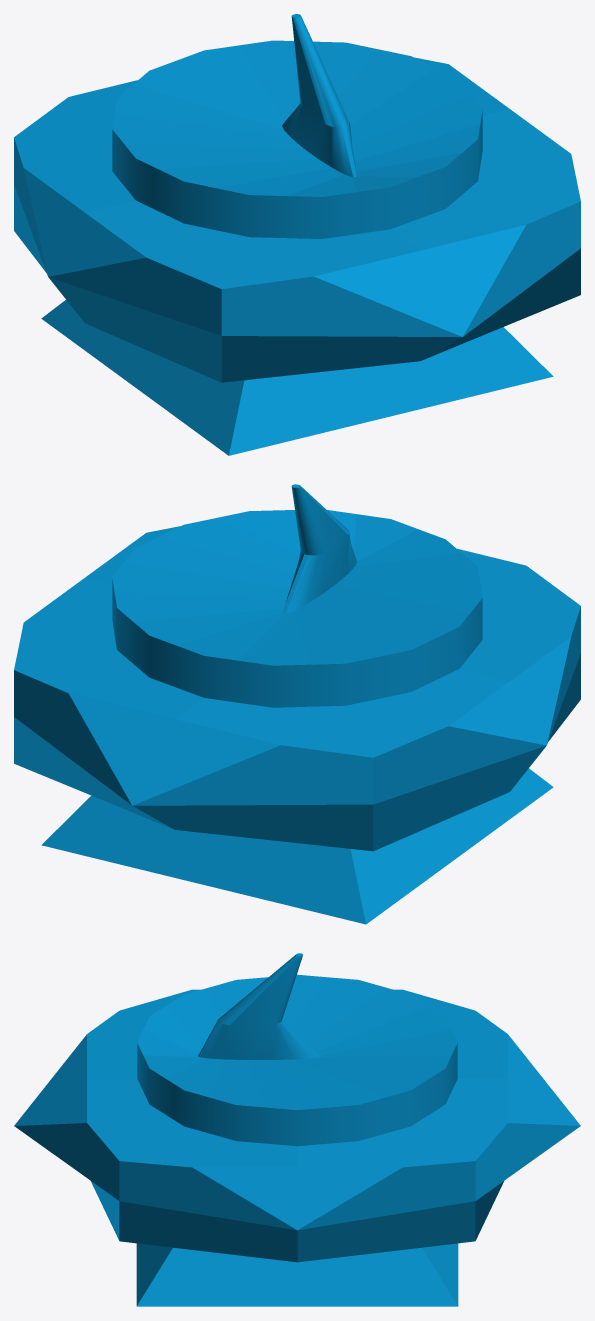
The model's file is Sun Dial Perfect.fbx.
3 views of the same model, one above another, from view 1: azimuth 30°, elevation 25°; view 2: azimuth 150°, elevation 25°; view 3: azimuth 270°, elevation 25° (orthographic). The views are drawn at different scales.
Parts seen in each view (by area): view 1: pCube2; view 2: pCube2; view 3: pCube2.
Boxes of the visible parts, x1,y1,x2,y2 form: pCube2: [14, 14, 580, 455]; pCube2: [14, 484, 580, 924]; pCube2: [14, 953, 580, 1306].
Bounding box in the file's own units: 69.36 × 43.98 × 79.62.
1 material, 1 textured.
